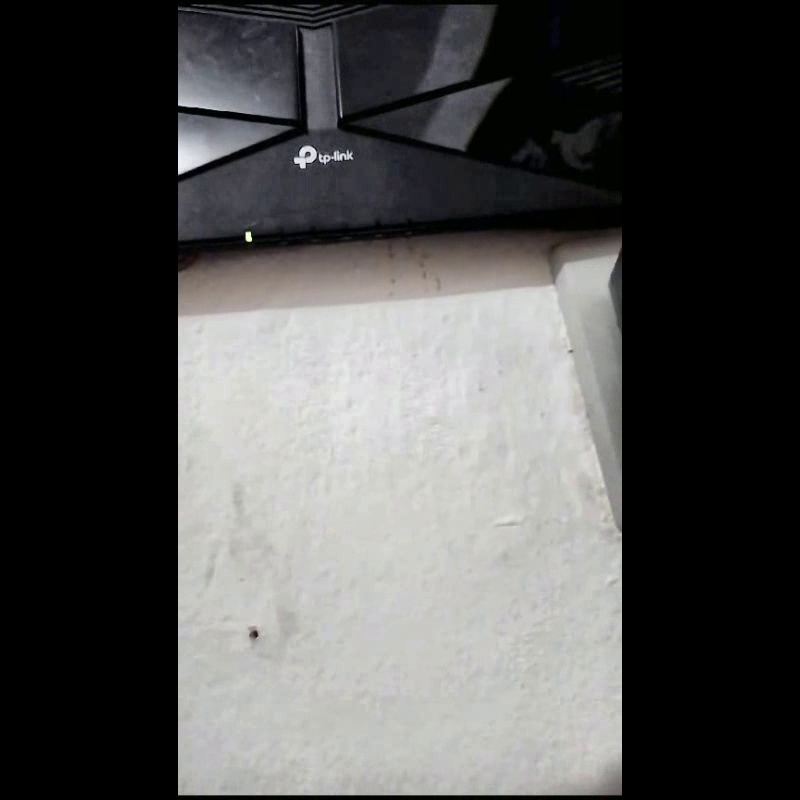off: (372, 219, 382, 235), (309, 223, 317, 239), (405, 217, 413, 232), (340, 222, 348, 237), (277, 228, 285, 241)
on_green: (244, 228, 252, 243)
